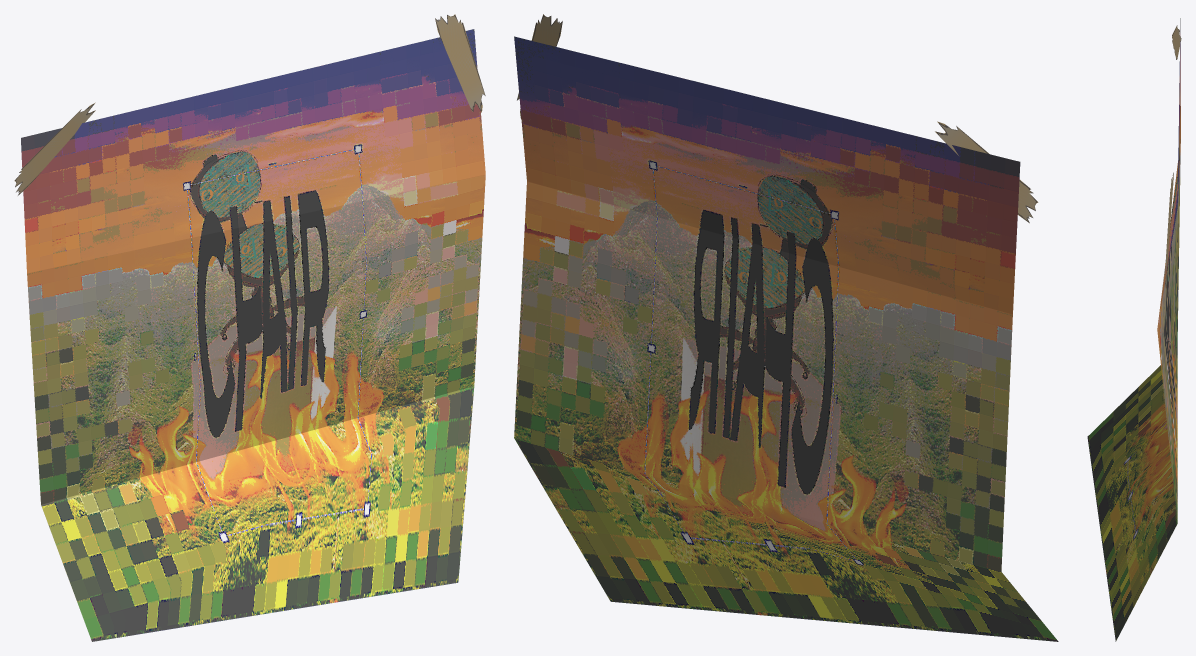
Rendered from PosterChair.fbx.
3 views of the same model, side by side, from view 1: azimuth 30°, elevation 25°; view 2: azimuth 150°, elevation 25°; view 3: azimuth 270°, elevation 25° (orthographic). The views are drawn at different scales.
Parts seen in each view (by area): view 1: Poster, Tape.001, Tape; view 2: Poster, Tape; view 3: Poster, Tape.001, Tape.
Part boxes in pixels (x1,y1,x2,y2): Poster: (21, 29, 485, 641); Tape.001: (435, 14, 485, 112); Tape: (14, 102, 95, 195); Poster: (514, 36, 1058, 641); Tape: (935, 121, 1038, 223); Poster: (1087, 18, 1180, 641); Tape.001: (1165, 172, 1173, 277); Tape: (1172, 25, 1181, 59).
Size of the model in its own units: 216 by 238 by 42.59.
3 materials, 3 textured.
